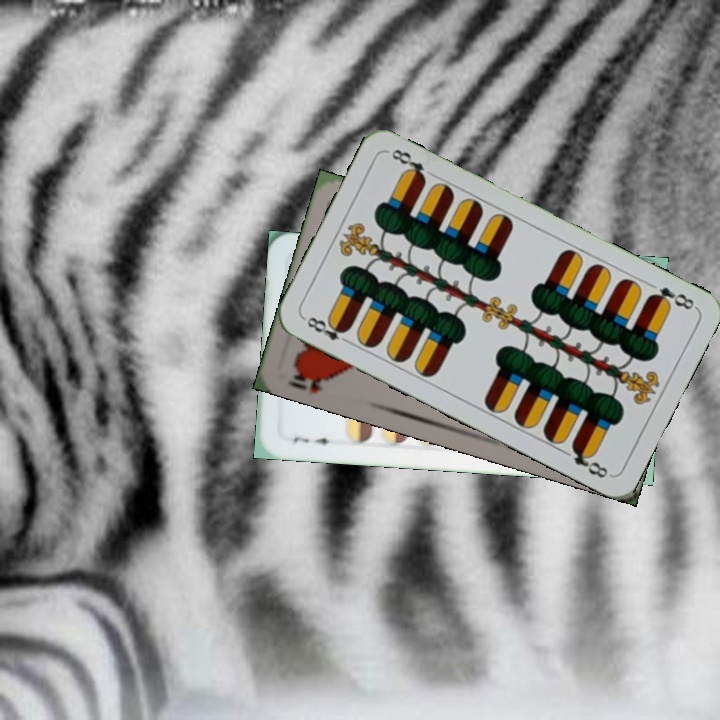E7: (289, 432, 338, 448)
E8: (300, 312, 354, 347), (644, 282, 699, 313)
HO: (287, 363, 337, 397)
